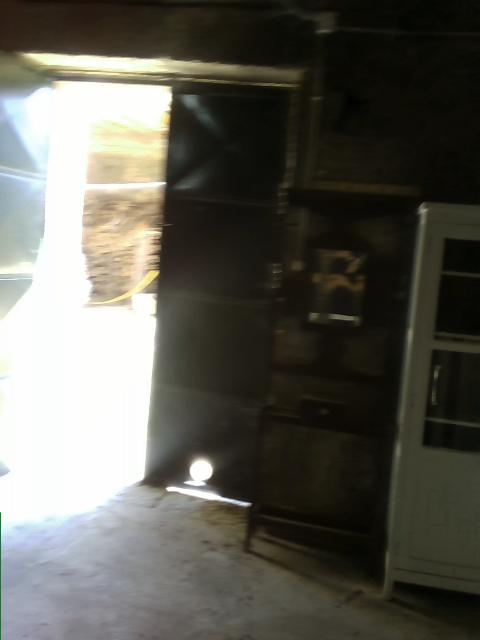open_door: (22, 68, 178, 483)
